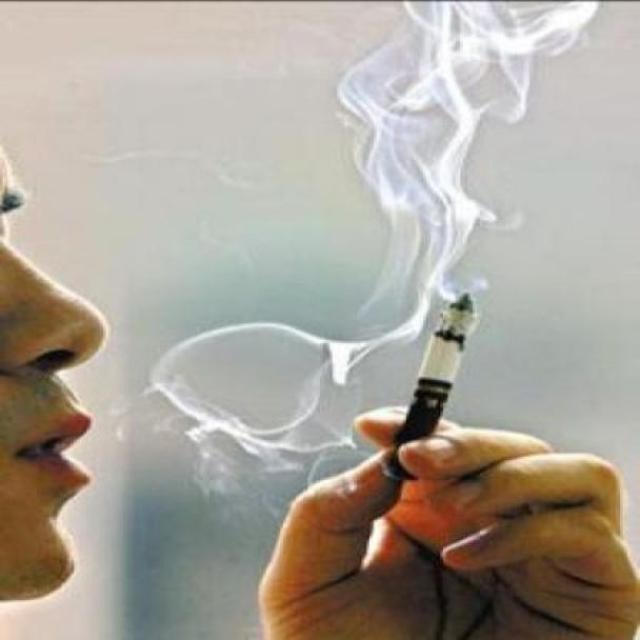rokok: (380, 282, 480, 484)
